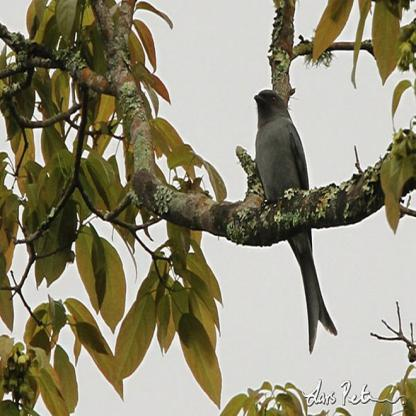Burung: (252, 90, 339, 353)
